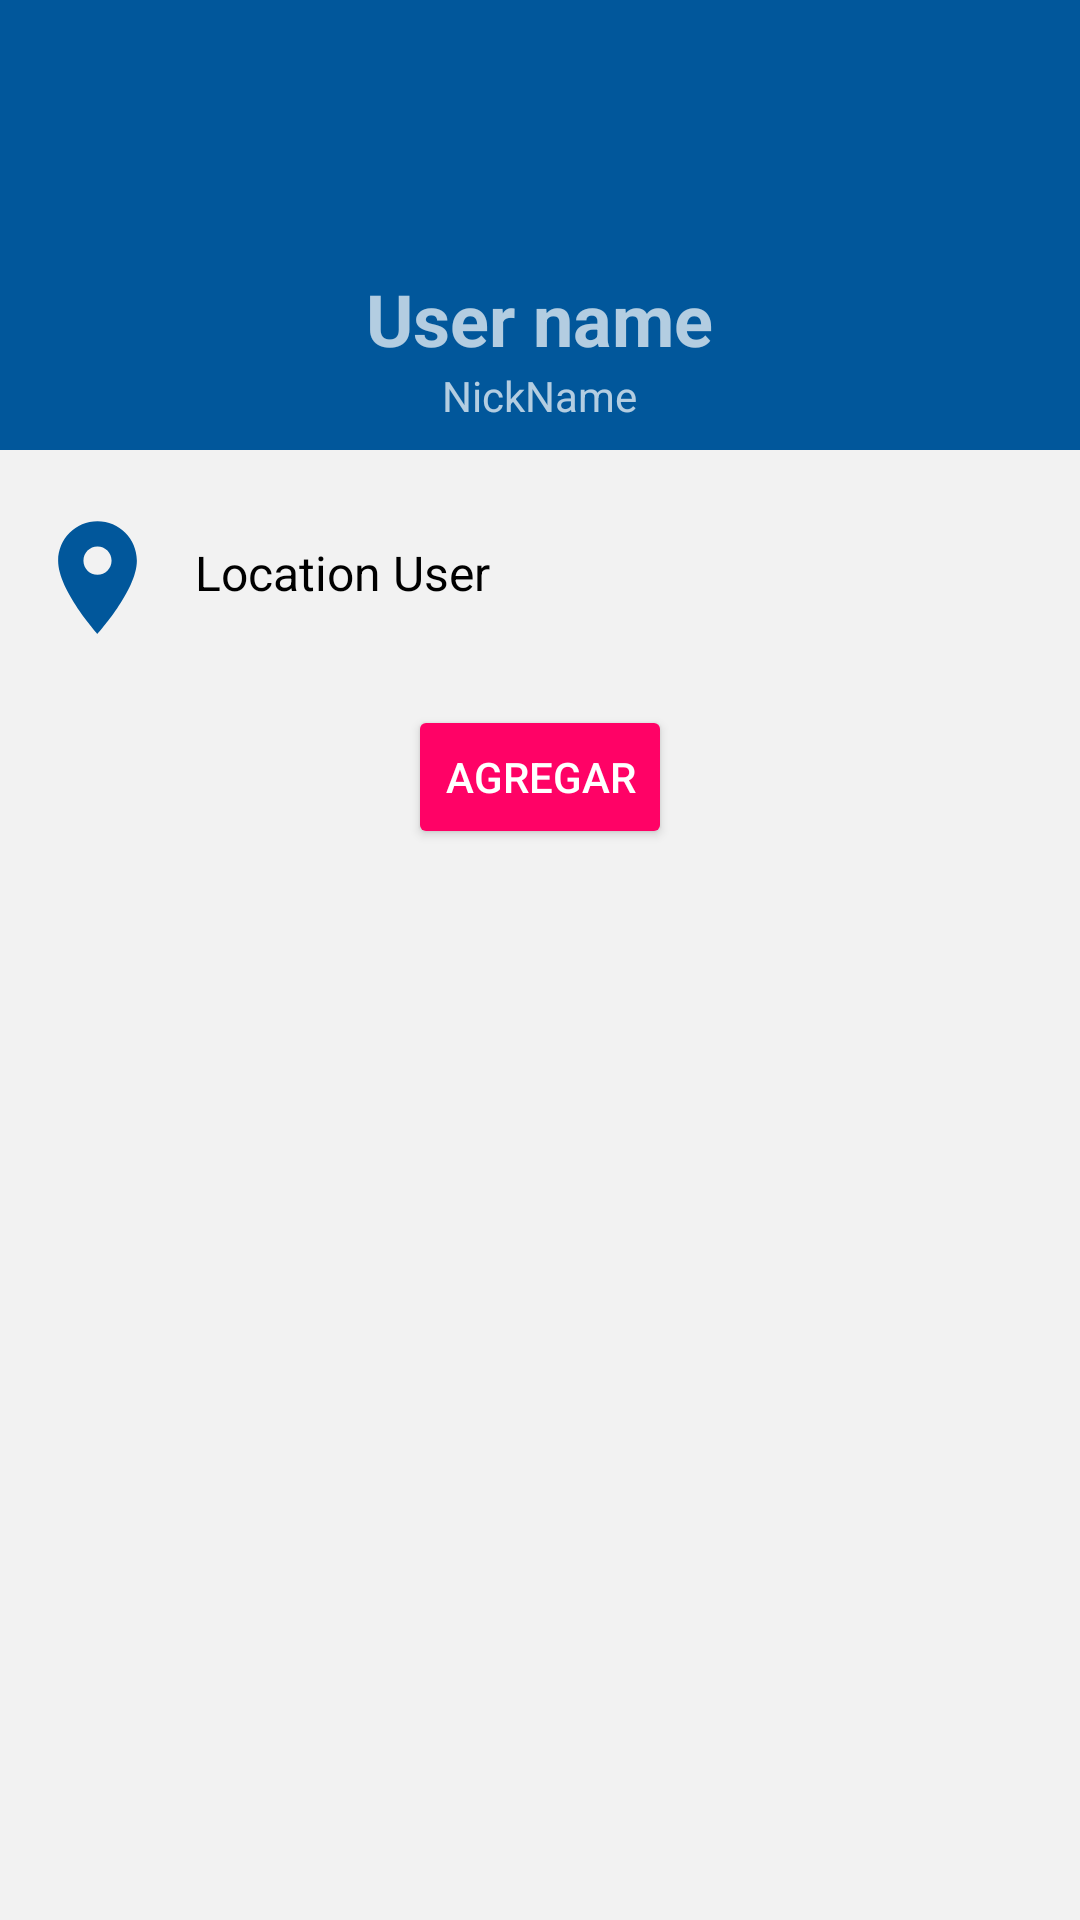

Where icons sit on this 1080px×1920px app screen, as (x1, y1, x2, y2):
location on: (58, 521, 137, 634)
